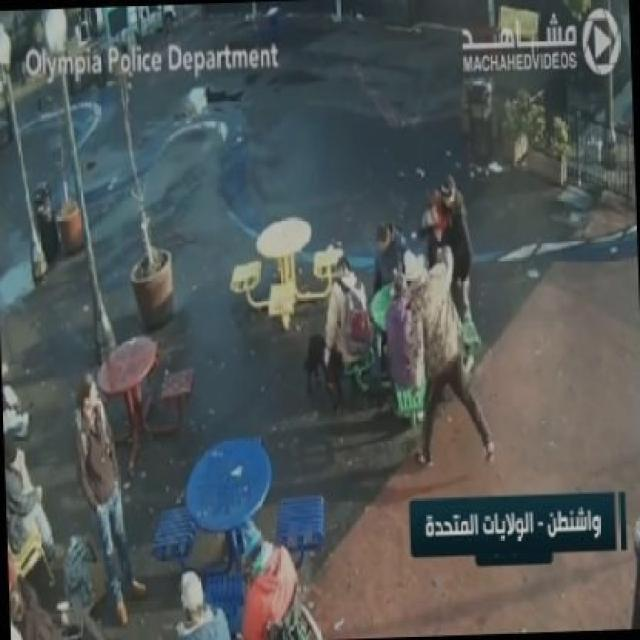non-fight: (65, 368, 148, 629), (321, 257, 371, 410), (173, 572, 233, 638)
